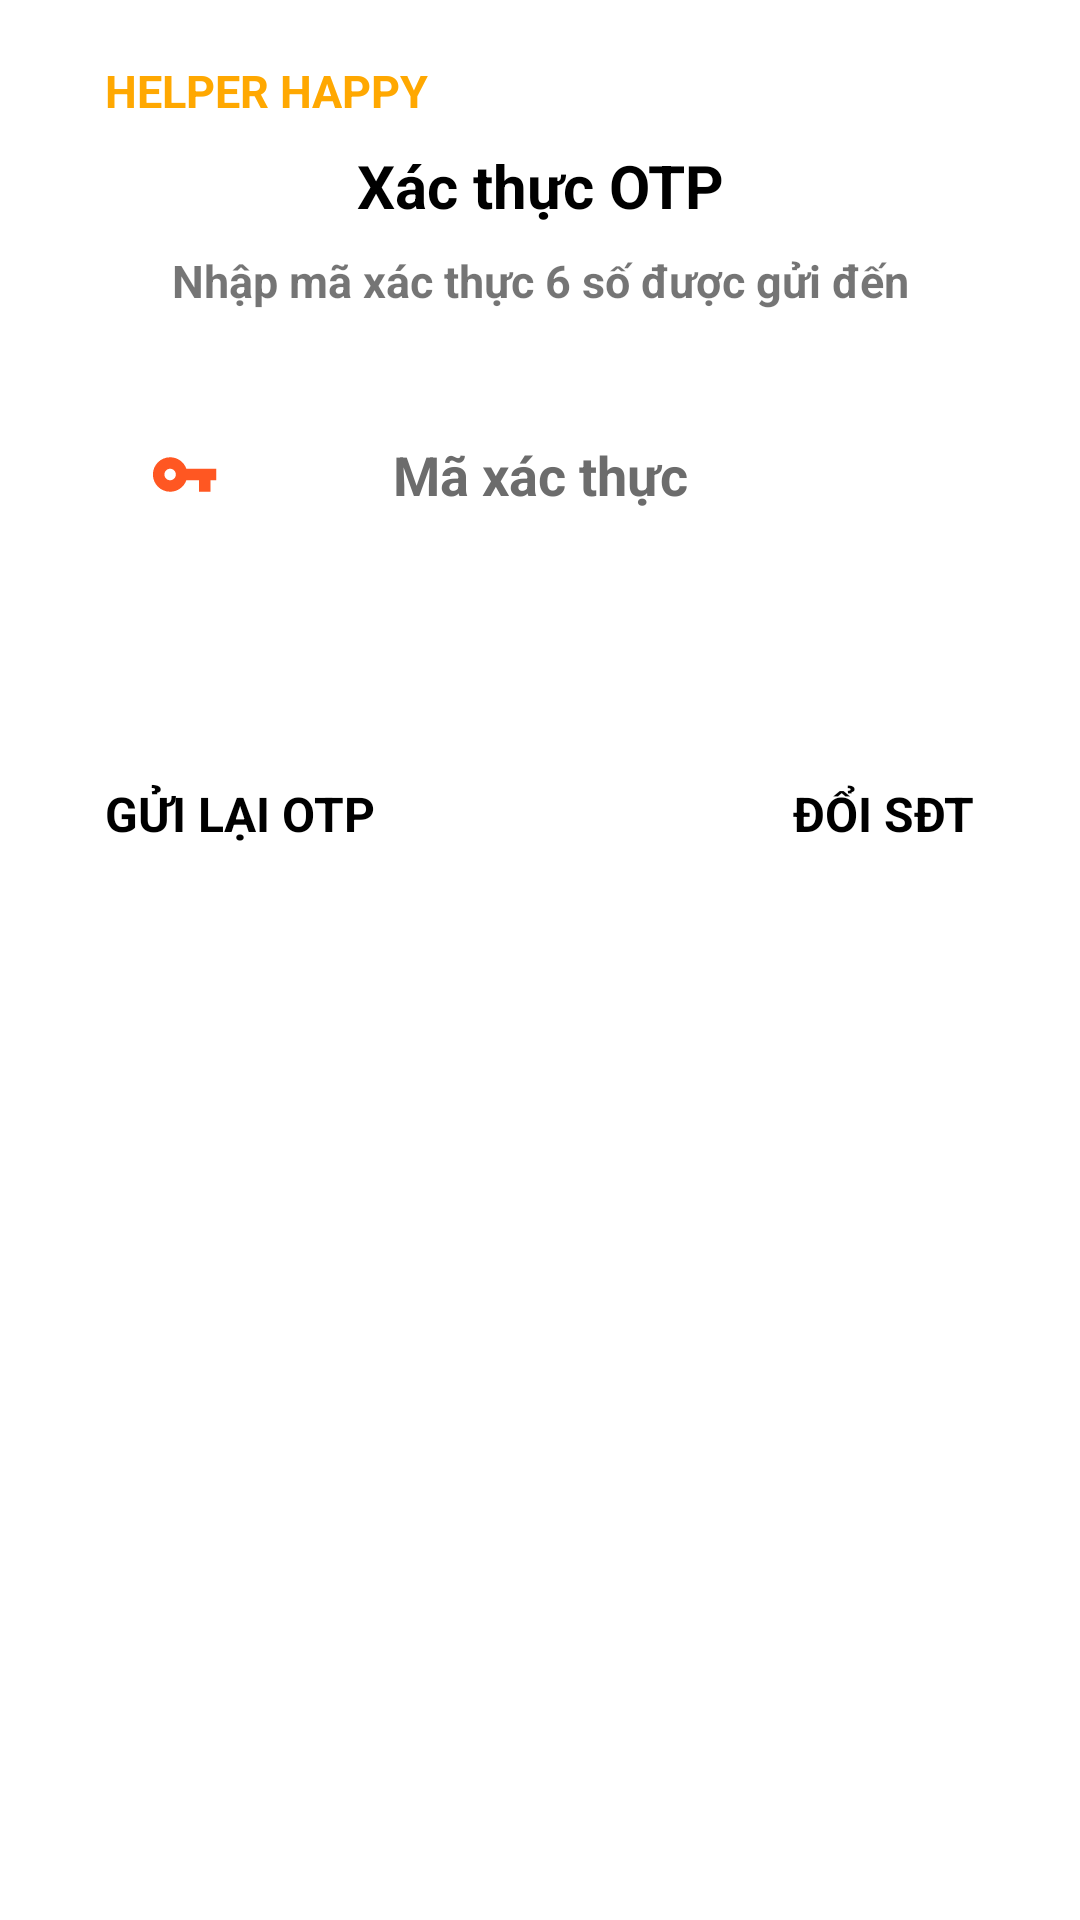

Point at icon controls on the screen. Image size 1080w x 1920h, points as point (x, y).
vpn key: point (185, 474)
